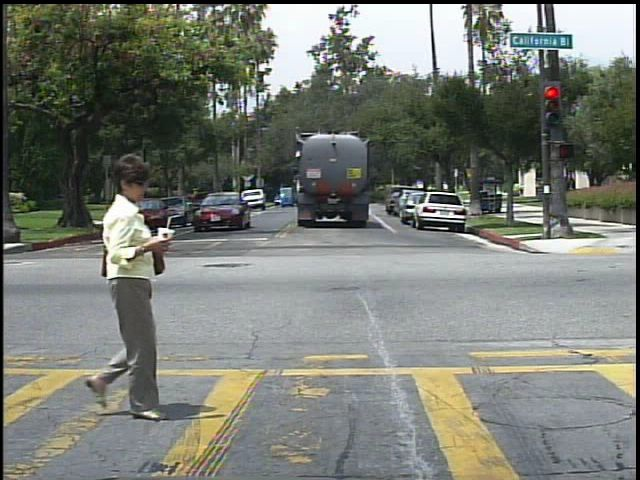person: (63, 152, 183, 424), (564, 172, 582, 204), (517, 180, 530, 200)
